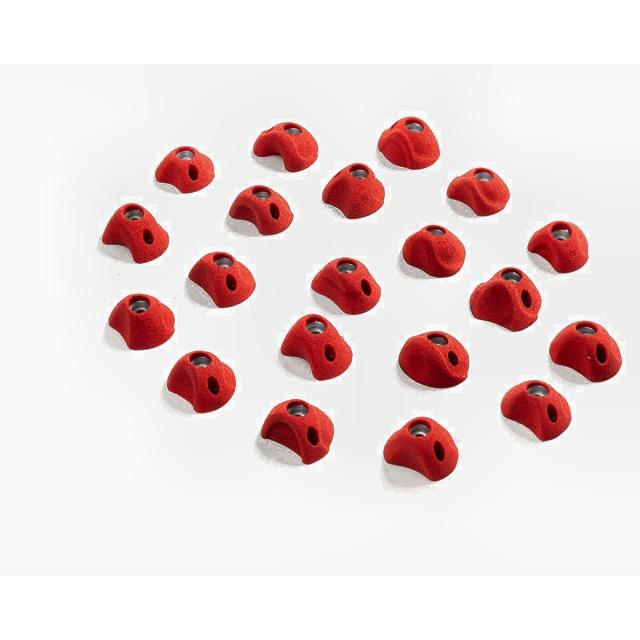Hold: (374, 412, 459, 477), (275, 310, 354, 378), (555, 307, 621, 384), (258, 396, 336, 461), (166, 349, 244, 412), (99, 202, 172, 266), (467, 271, 542, 333), (101, 294, 180, 352), (497, 380, 573, 440), (522, 210, 593, 270), (308, 255, 378, 315), (393, 225, 467, 278), (399, 334, 471, 386), (181, 255, 252, 306), (229, 184, 297, 236), (249, 119, 318, 170), (322, 163, 384, 218), (371, 120, 449, 161), (453, 161, 512, 211), (156, 140, 212, 192)
